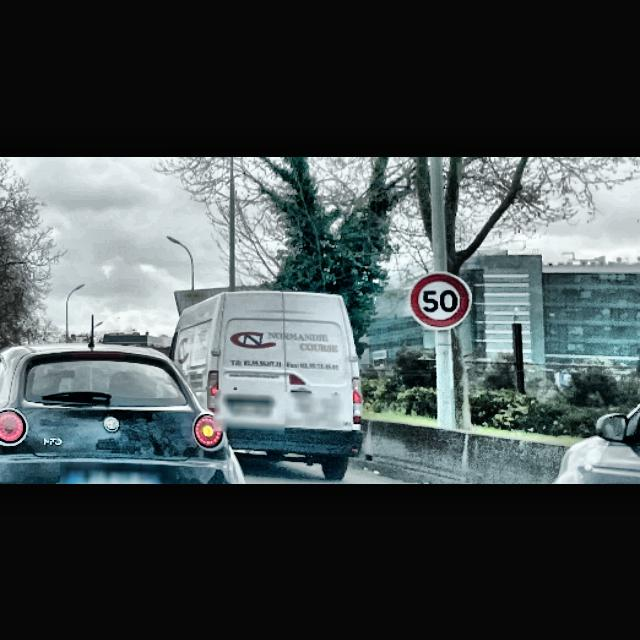speed_50: (407, 270, 473, 330)
